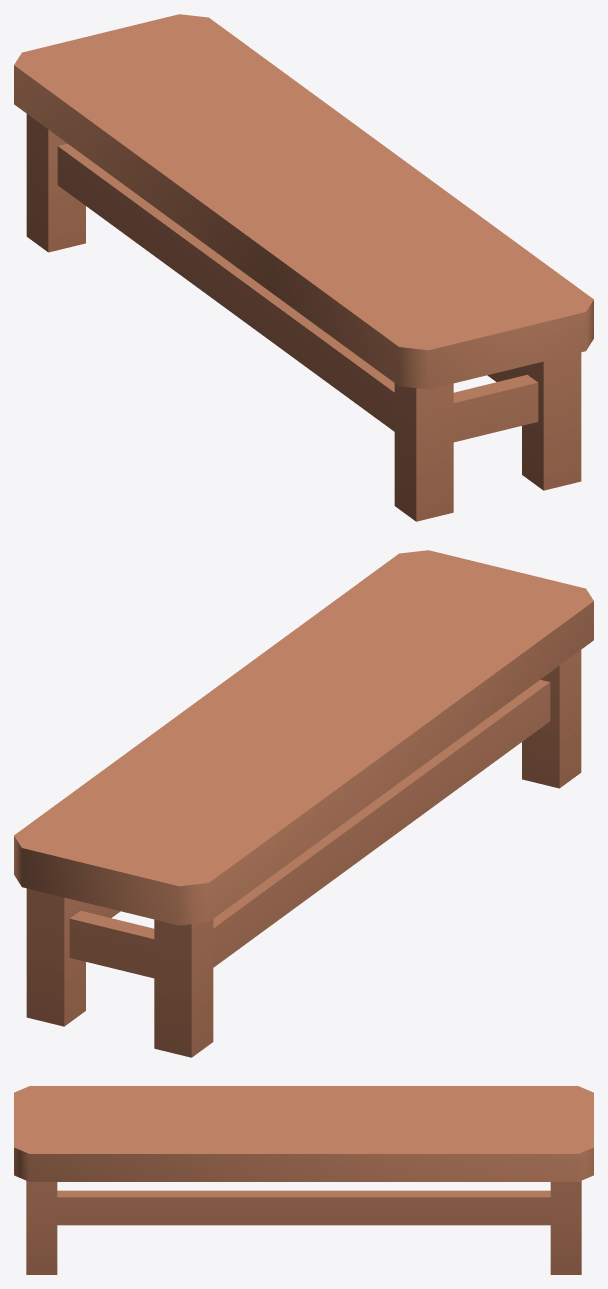
File: stall-bench.fbx
The picture shows the model from 3 angles, top to bottom: view 1: azimuth 30°, elevation 25°; view 2: azimuth 150°, elevation 25°; view 3: azimuth 270°, elevation 25°; orthographic projection. The views are drawn at different scales.
Parts seen in each view (by area): view 1: stall-bench; view 2: stall-bench; view 3: stall-bench.
Part boxes in pixels (x1,y1,x2,y2): stall-bench: [14, 14, 593, 521]; stall-bench: [14, 550, 593, 1057]; stall-bench: [14, 1086, 593, 1274].
Size of the model in its own units: 26 by 22.55 by 94.
1 material, 1 textured.
